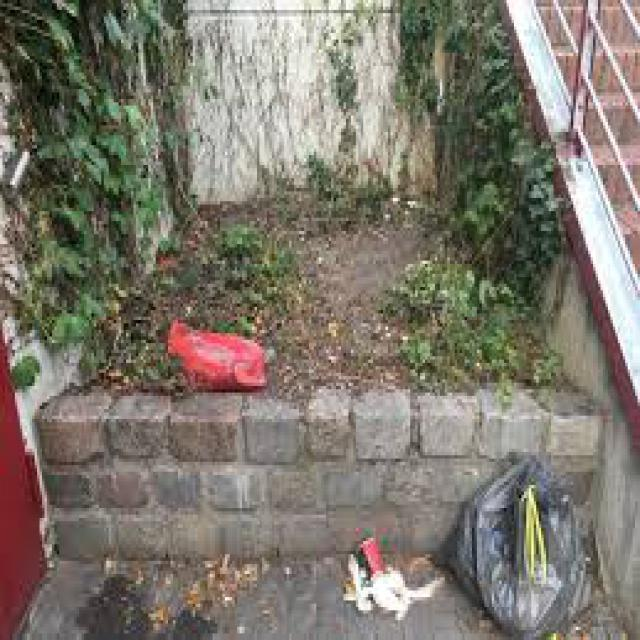Trashbag: (429, 447, 607, 637)
